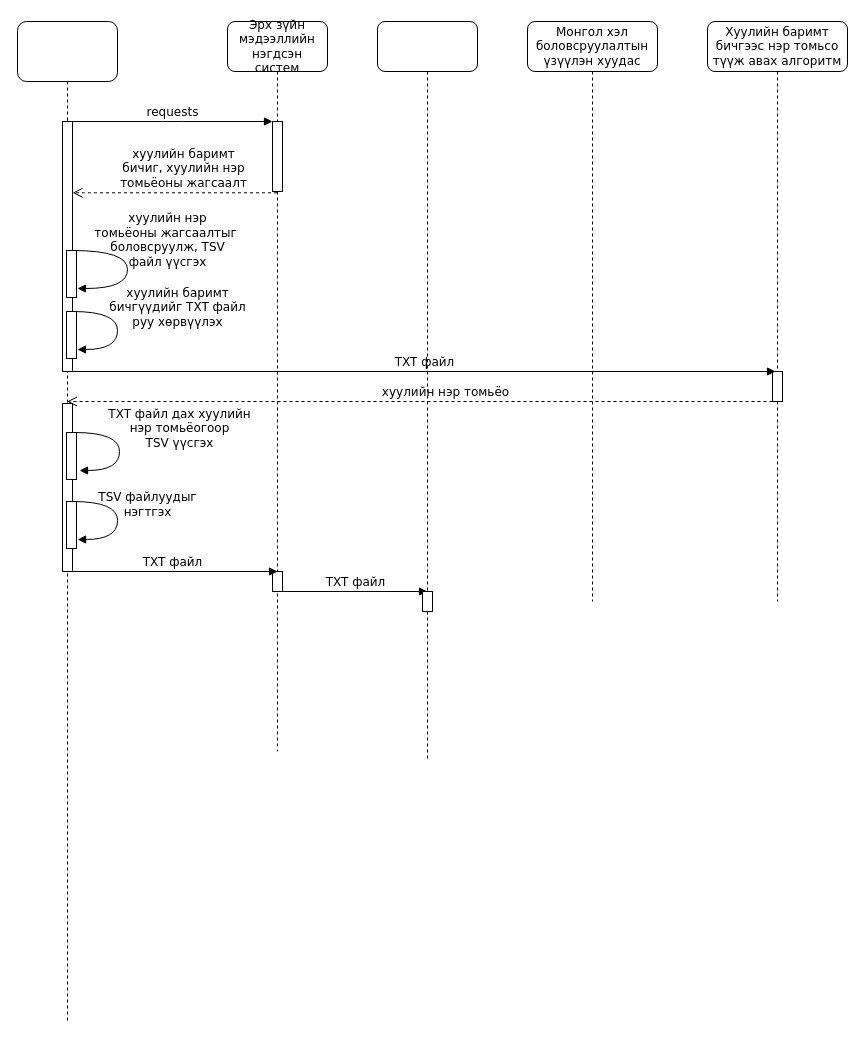
This 865x1039 diagram has some shape labels left out. The shapes that lost their labels are listed below. From the top down, each one's box as (x1, y1, x2, y2) in pixels, then its label:
(376, 20, 478, 762): Нэр томьёо танилтын алгоритм
(16, 20, 118, 1022): DAS Баримт бичиг шинжилгээний систем
